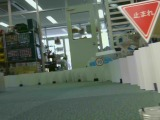stop: (117, 1, 160, 44)
